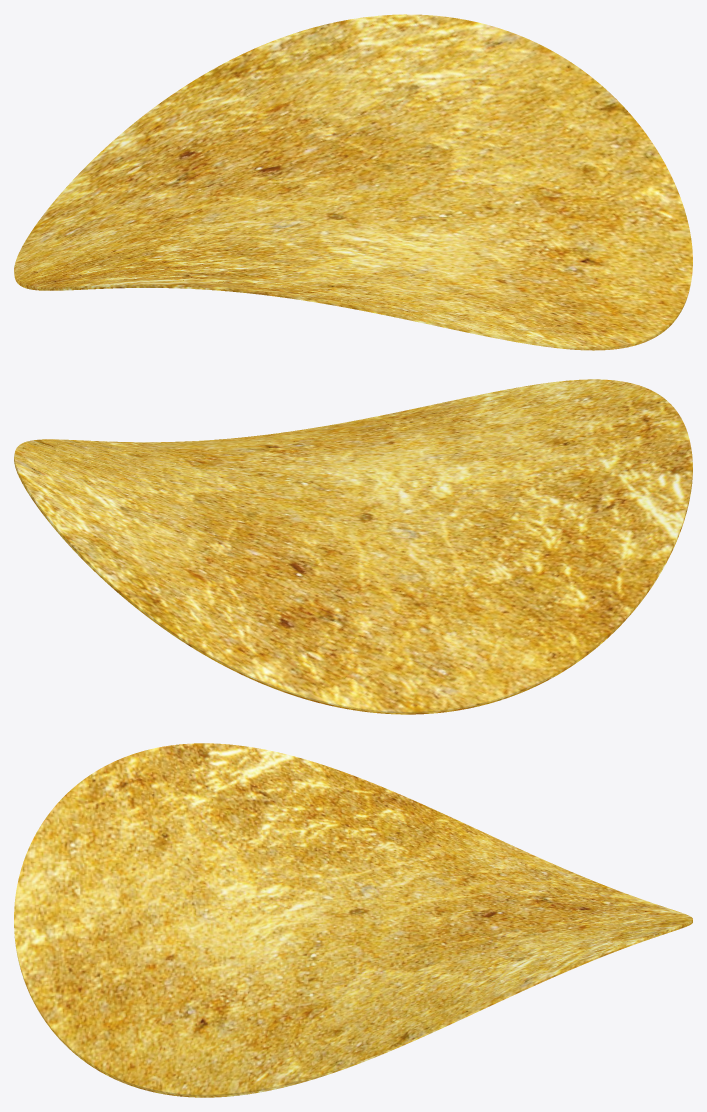
File: chip_textured2.gltf
3 renders of one model, top to bottom at view 1: azimuth 30°, elevation 25°; view 2: azimuth 150°, elevation 25°; view 3: azimuth 270°, elevation 25°, orthographic.
Parts seen in each view (by area): view 1: Circle; view 2: Circle; view 3: Circle.
Boxes of the visible parts, box(x1,y1,x2,y2) form: Circle: box(14, 14, 692, 350); Circle: box(14, 379, 692, 714); Circle: box(14, 743, 692, 1097).
Size of the model in its own units: 2 by 0.3973 by 2.
1 material, 1 textured.
